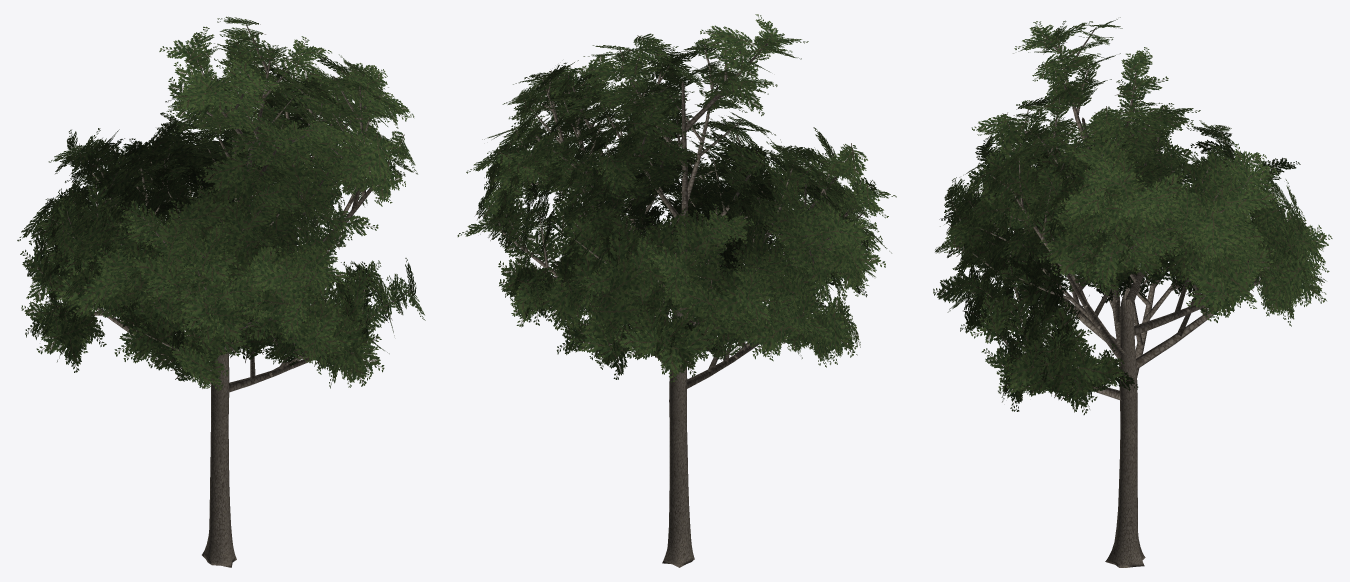
The model's file is forest_tree.glb.
3 renders of one model, left to right at view 1: azimuth 30°, elevation 25°; view 2: azimuth 150°, elevation 25°; view 3: azimuth 270°, elevation 25°, orthographic. The views are drawn at different scales.
Visible parts, largest first — view 1: leaves, bark; view 2: leaves, bark; view 3: leaves, bark.
Boxes of the visible parts, x1,y1,x2,y2 form: leaves: (17,16,425,390); bark: (40,24,412,567); leaves: (457,14,896,382); bark: (488,34,867,567); leaves: (933,17,1332,414); bark: (948,27,1305,567).
Size of the model in its own units: 9.4 by 13.1 by 9.19.
Materials: 2 (2 with a texture image).
